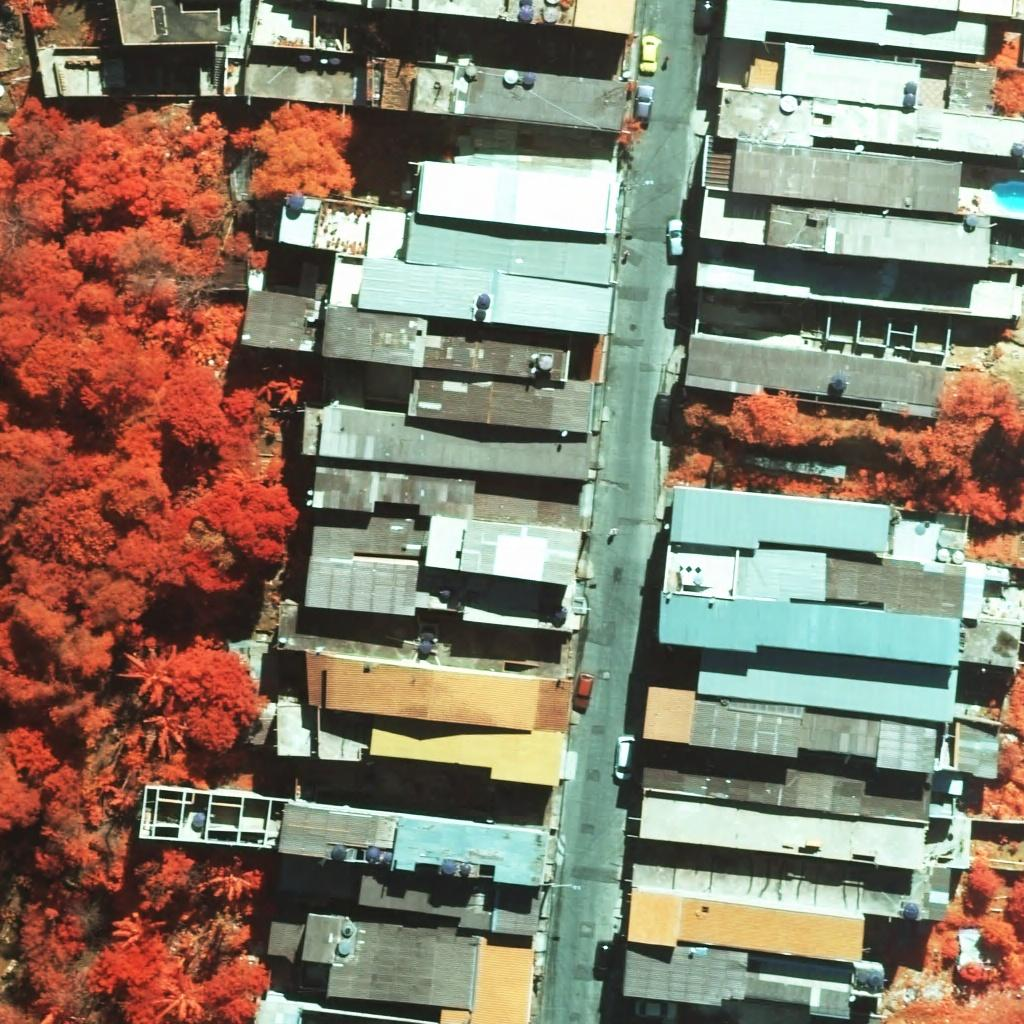pool: (992, 181, 1024, 212)
